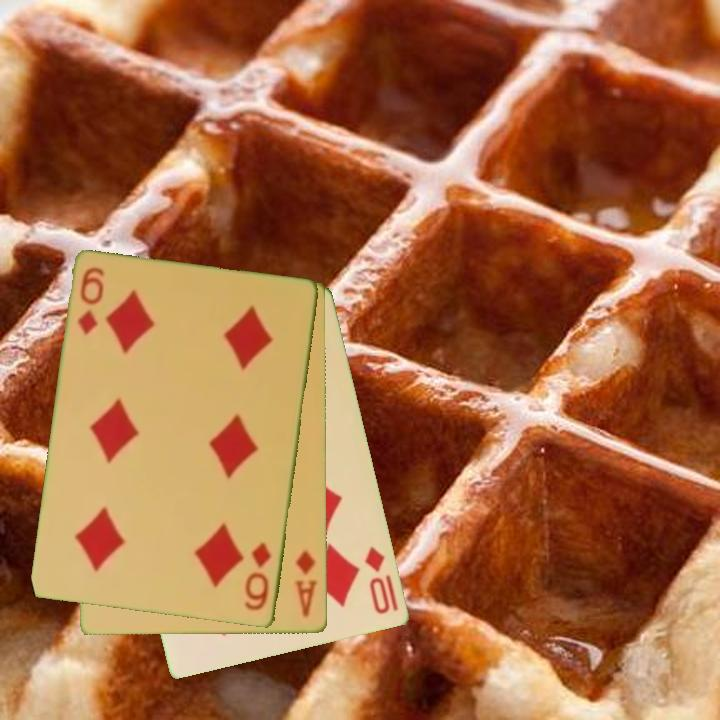10d: (361, 543, 394, 618)
6d: (241, 539, 275, 614), (74, 264, 108, 339)
Ad: (292, 547, 321, 620)
